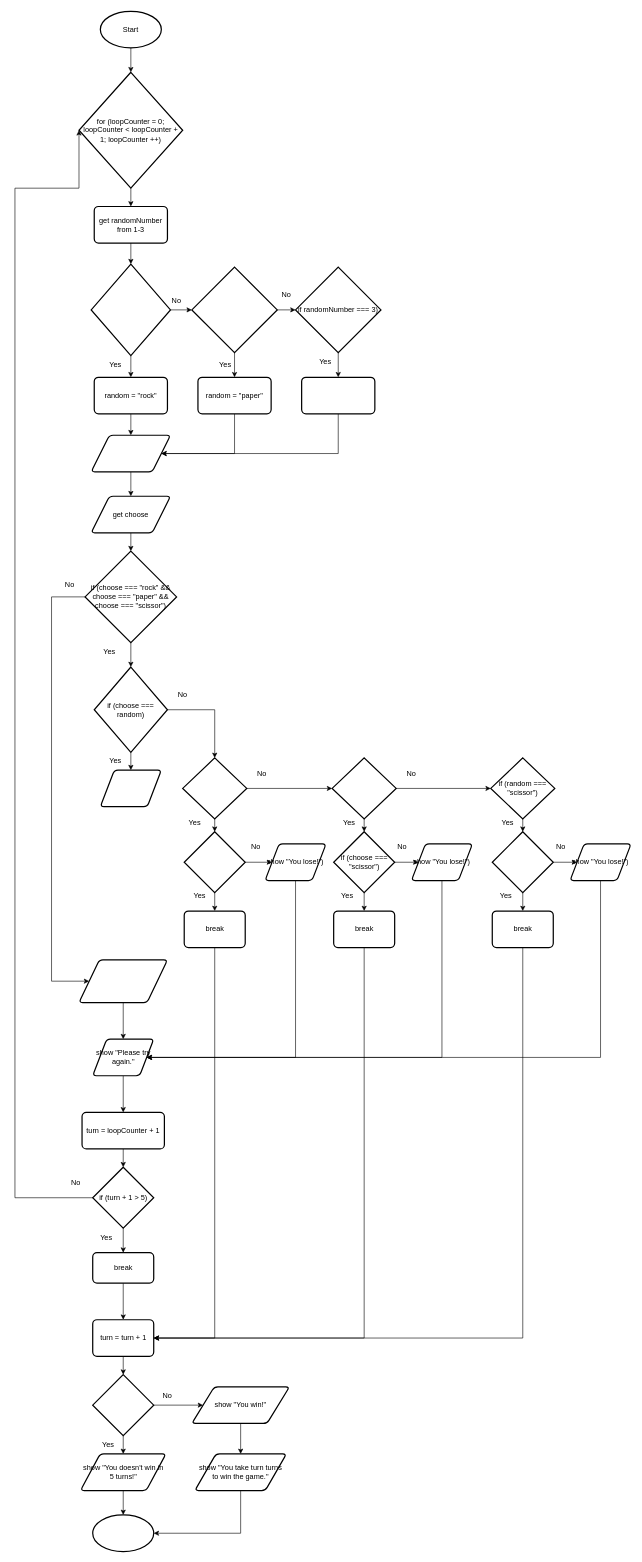
The diagram is 642 pixels wide and 1562 high, and some of its shapes have lost their labels. Here are the shapes that lost their labels. From the top down, the centre of each, then its label:
the point at 130,309: if (randomNumber === 1)
the point at 234,309: if randomNumber === 2)
the point at 338,395: random = "scissor"
the point at 130,453: show "The computer chooses random."
the point at 130,788: show "Tie."
the point at 214,788: if (random === "rock")
the point at 363,788: if (random === "paper")
the point at 214,862: if (choose === "paper")
the point at 522,862: if (choose === "rock")
the point at 123,981: show "Please choose a type from rock, paper and scissor!"
the point at 123,1405: if (turn > 5)
the point at 123,1533: Stop
